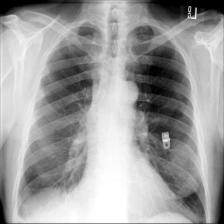normal: (11, 19, 209, 224)
